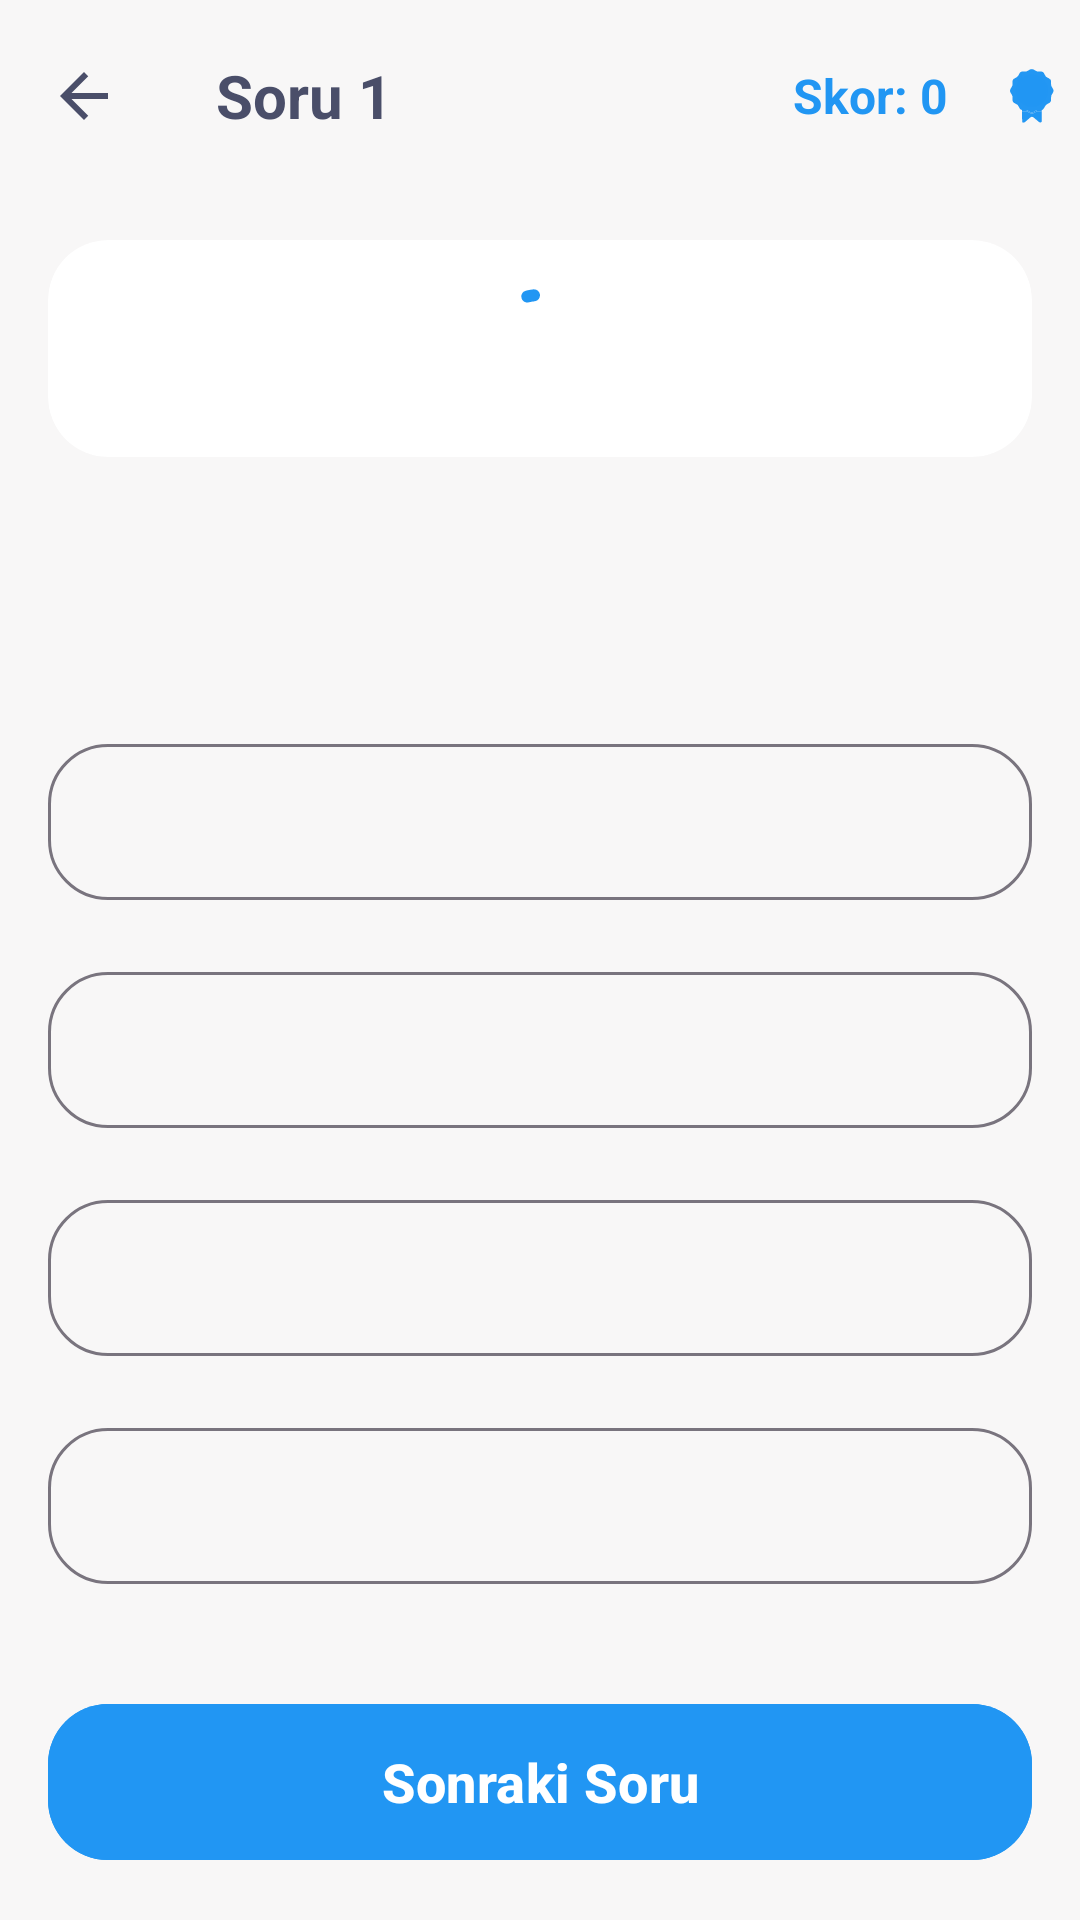

Icon bounding boxes for this 1080 × 1920 phone screenshot, format {"x1": x1, "y1": y1, "x2": x2, "y2": y2}:
Rozetler: {"x1": 1010, "y1": 69, "x2": 1054, "y2": 123}
